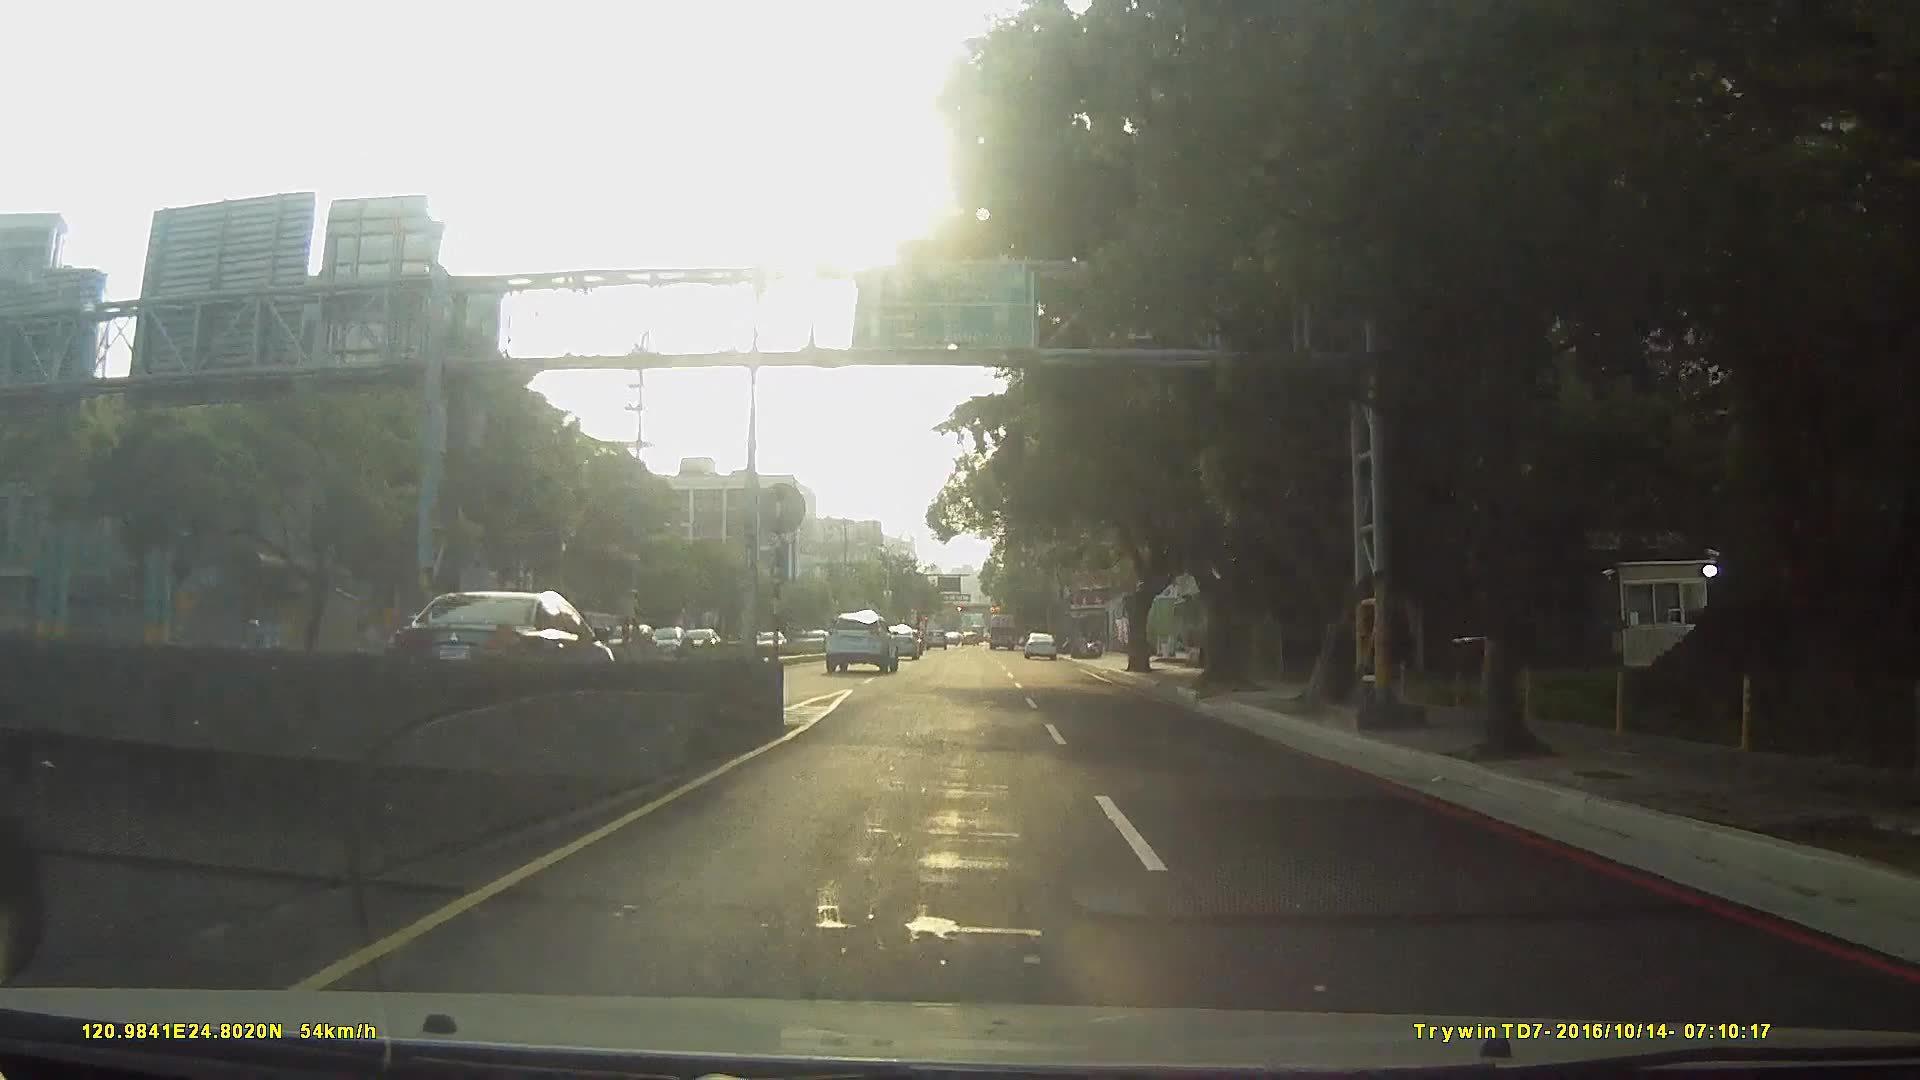vehicle: (392, 589, 616, 698), (823, 611, 897, 676), (878, 622, 920, 659), (986, 611, 1018, 650), (1021, 632, 1058, 661)
